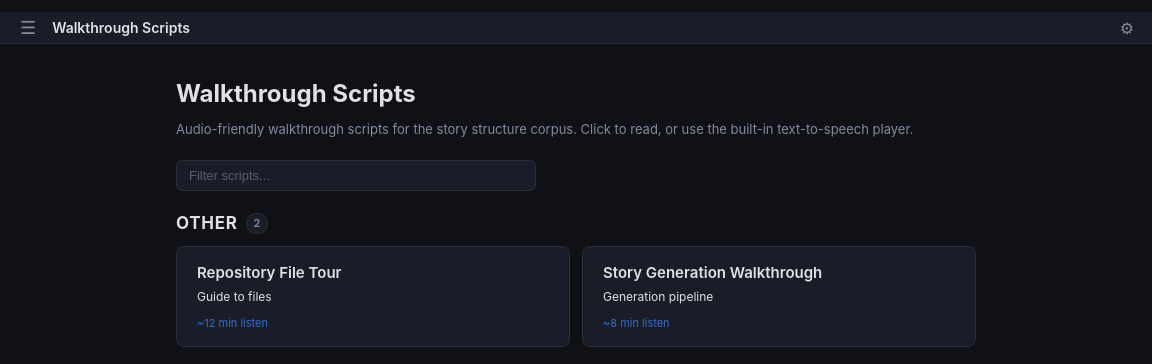
Test: ScriptBrowserPage › shows empty filter message
Type "zzzzz" into the field with placeholder "Filter scripts...". click: {"x": 356, "y": 175}
box: [176, 160, 536, 190]
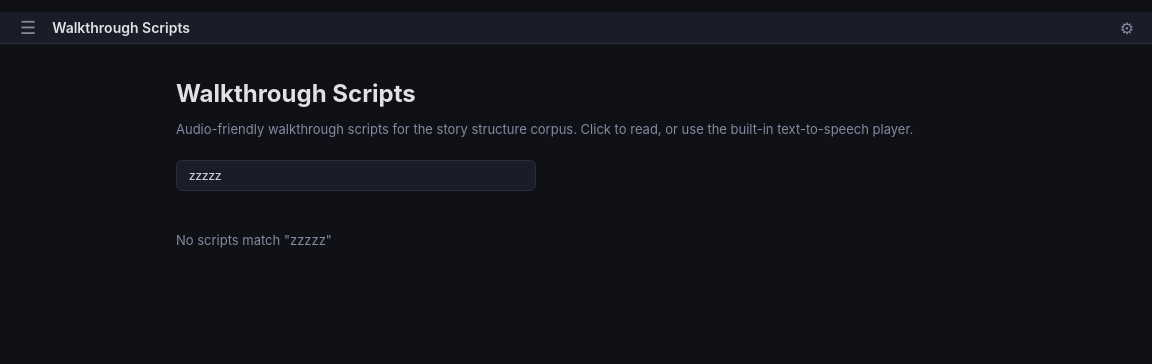
Check: the text "No scripts match \"zzzzz\"" is shown, box [176, 232, 332, 248]
